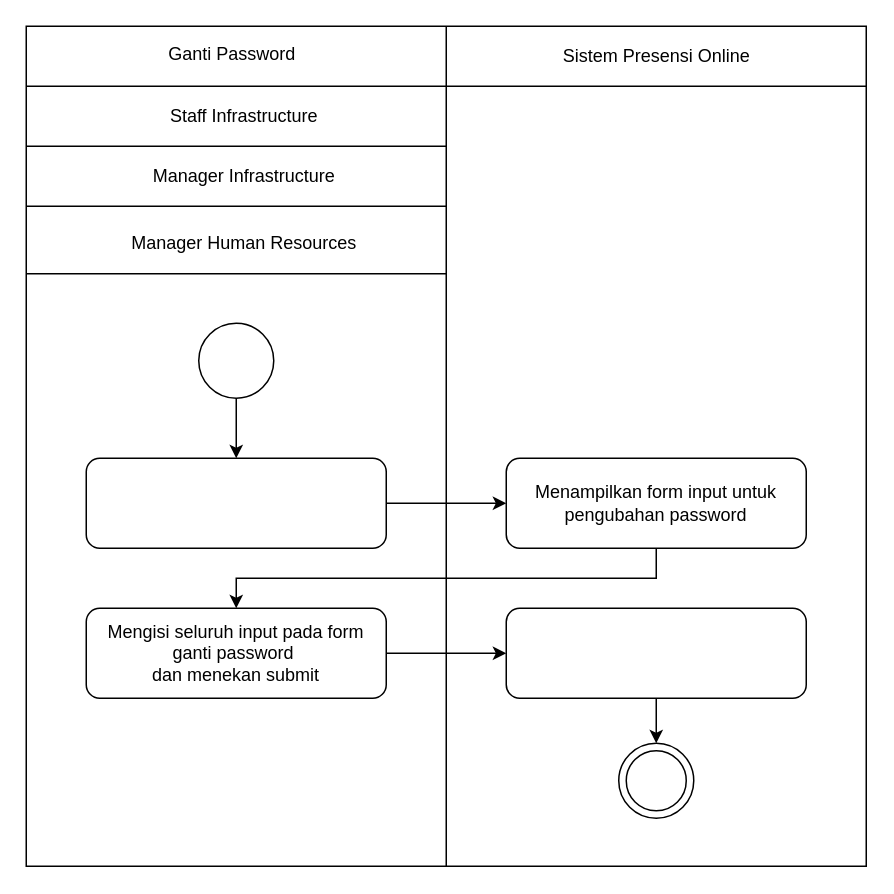
Some shapes in this 894 by 894 pixel diagram are drawn without their labels. The shapes that lost their labels are listed below. From the top down, each one's centre as x and y in pixels, then its label:
point 235,502: Memilih change password pada menu profil
point 655,652: Menyimpan password baru akun
